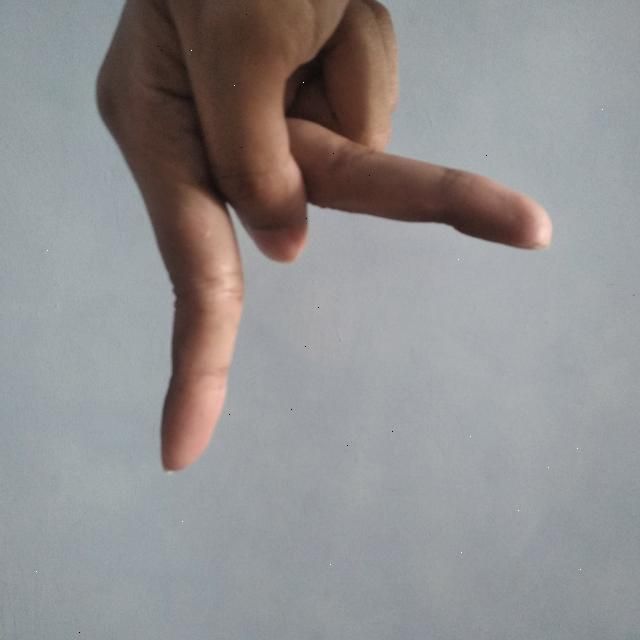P: (91, 0, 562, 477)
